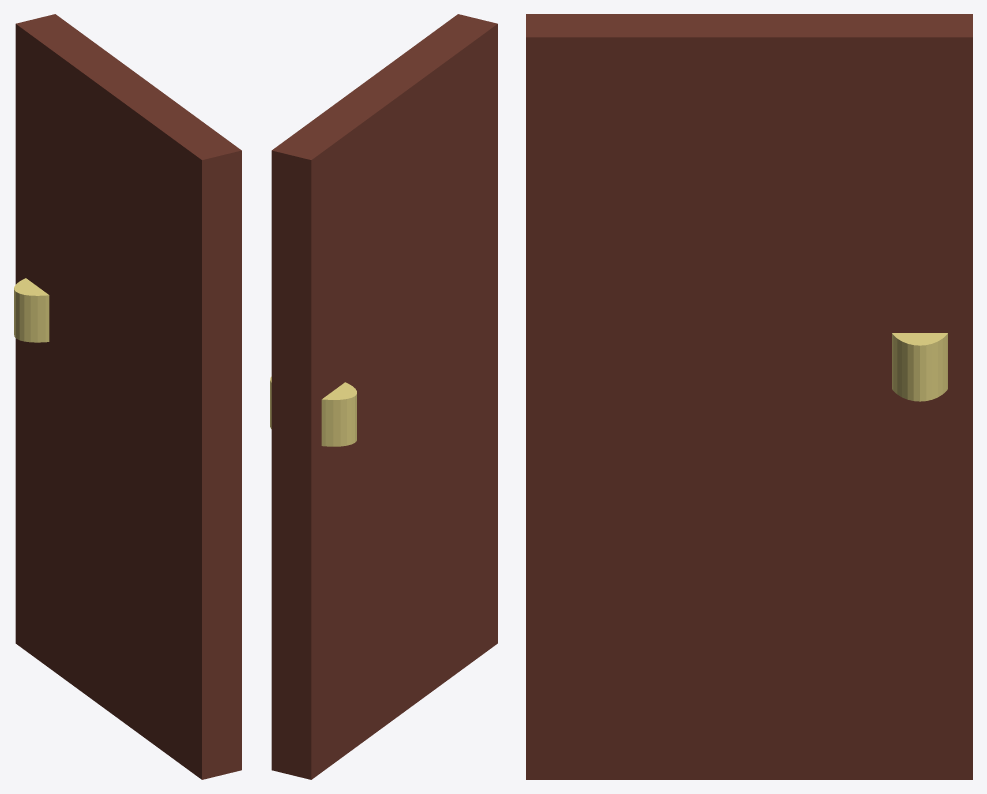
File: Door1.fbx
The picture shows the model from 3 angles, left to right: view 1: azimuth 30°, elevation 25°; view 2: azimuth 150°, elevation 25°; view 3: azimuth 270°, elevation 25°; orthographic projection. The views are drawn at different scales.
Visible parts, largest first — view 1: Cube, Cylinder; view 2: Cube, Cylinder; view 3: Cube, Cylinder.
Part boxes in pixels (x1,y1,x2,y2): Cube: (15,14,241,779); Cylinder: (14,278,49,342); Cube: (271,14,497,779); Cylinder: (270,376,356,446); Cube: (526,14,972,779); Cylinder: (892,333,947,401).
Bounding box in the file's own units: 83.03 × 592 × 323.
